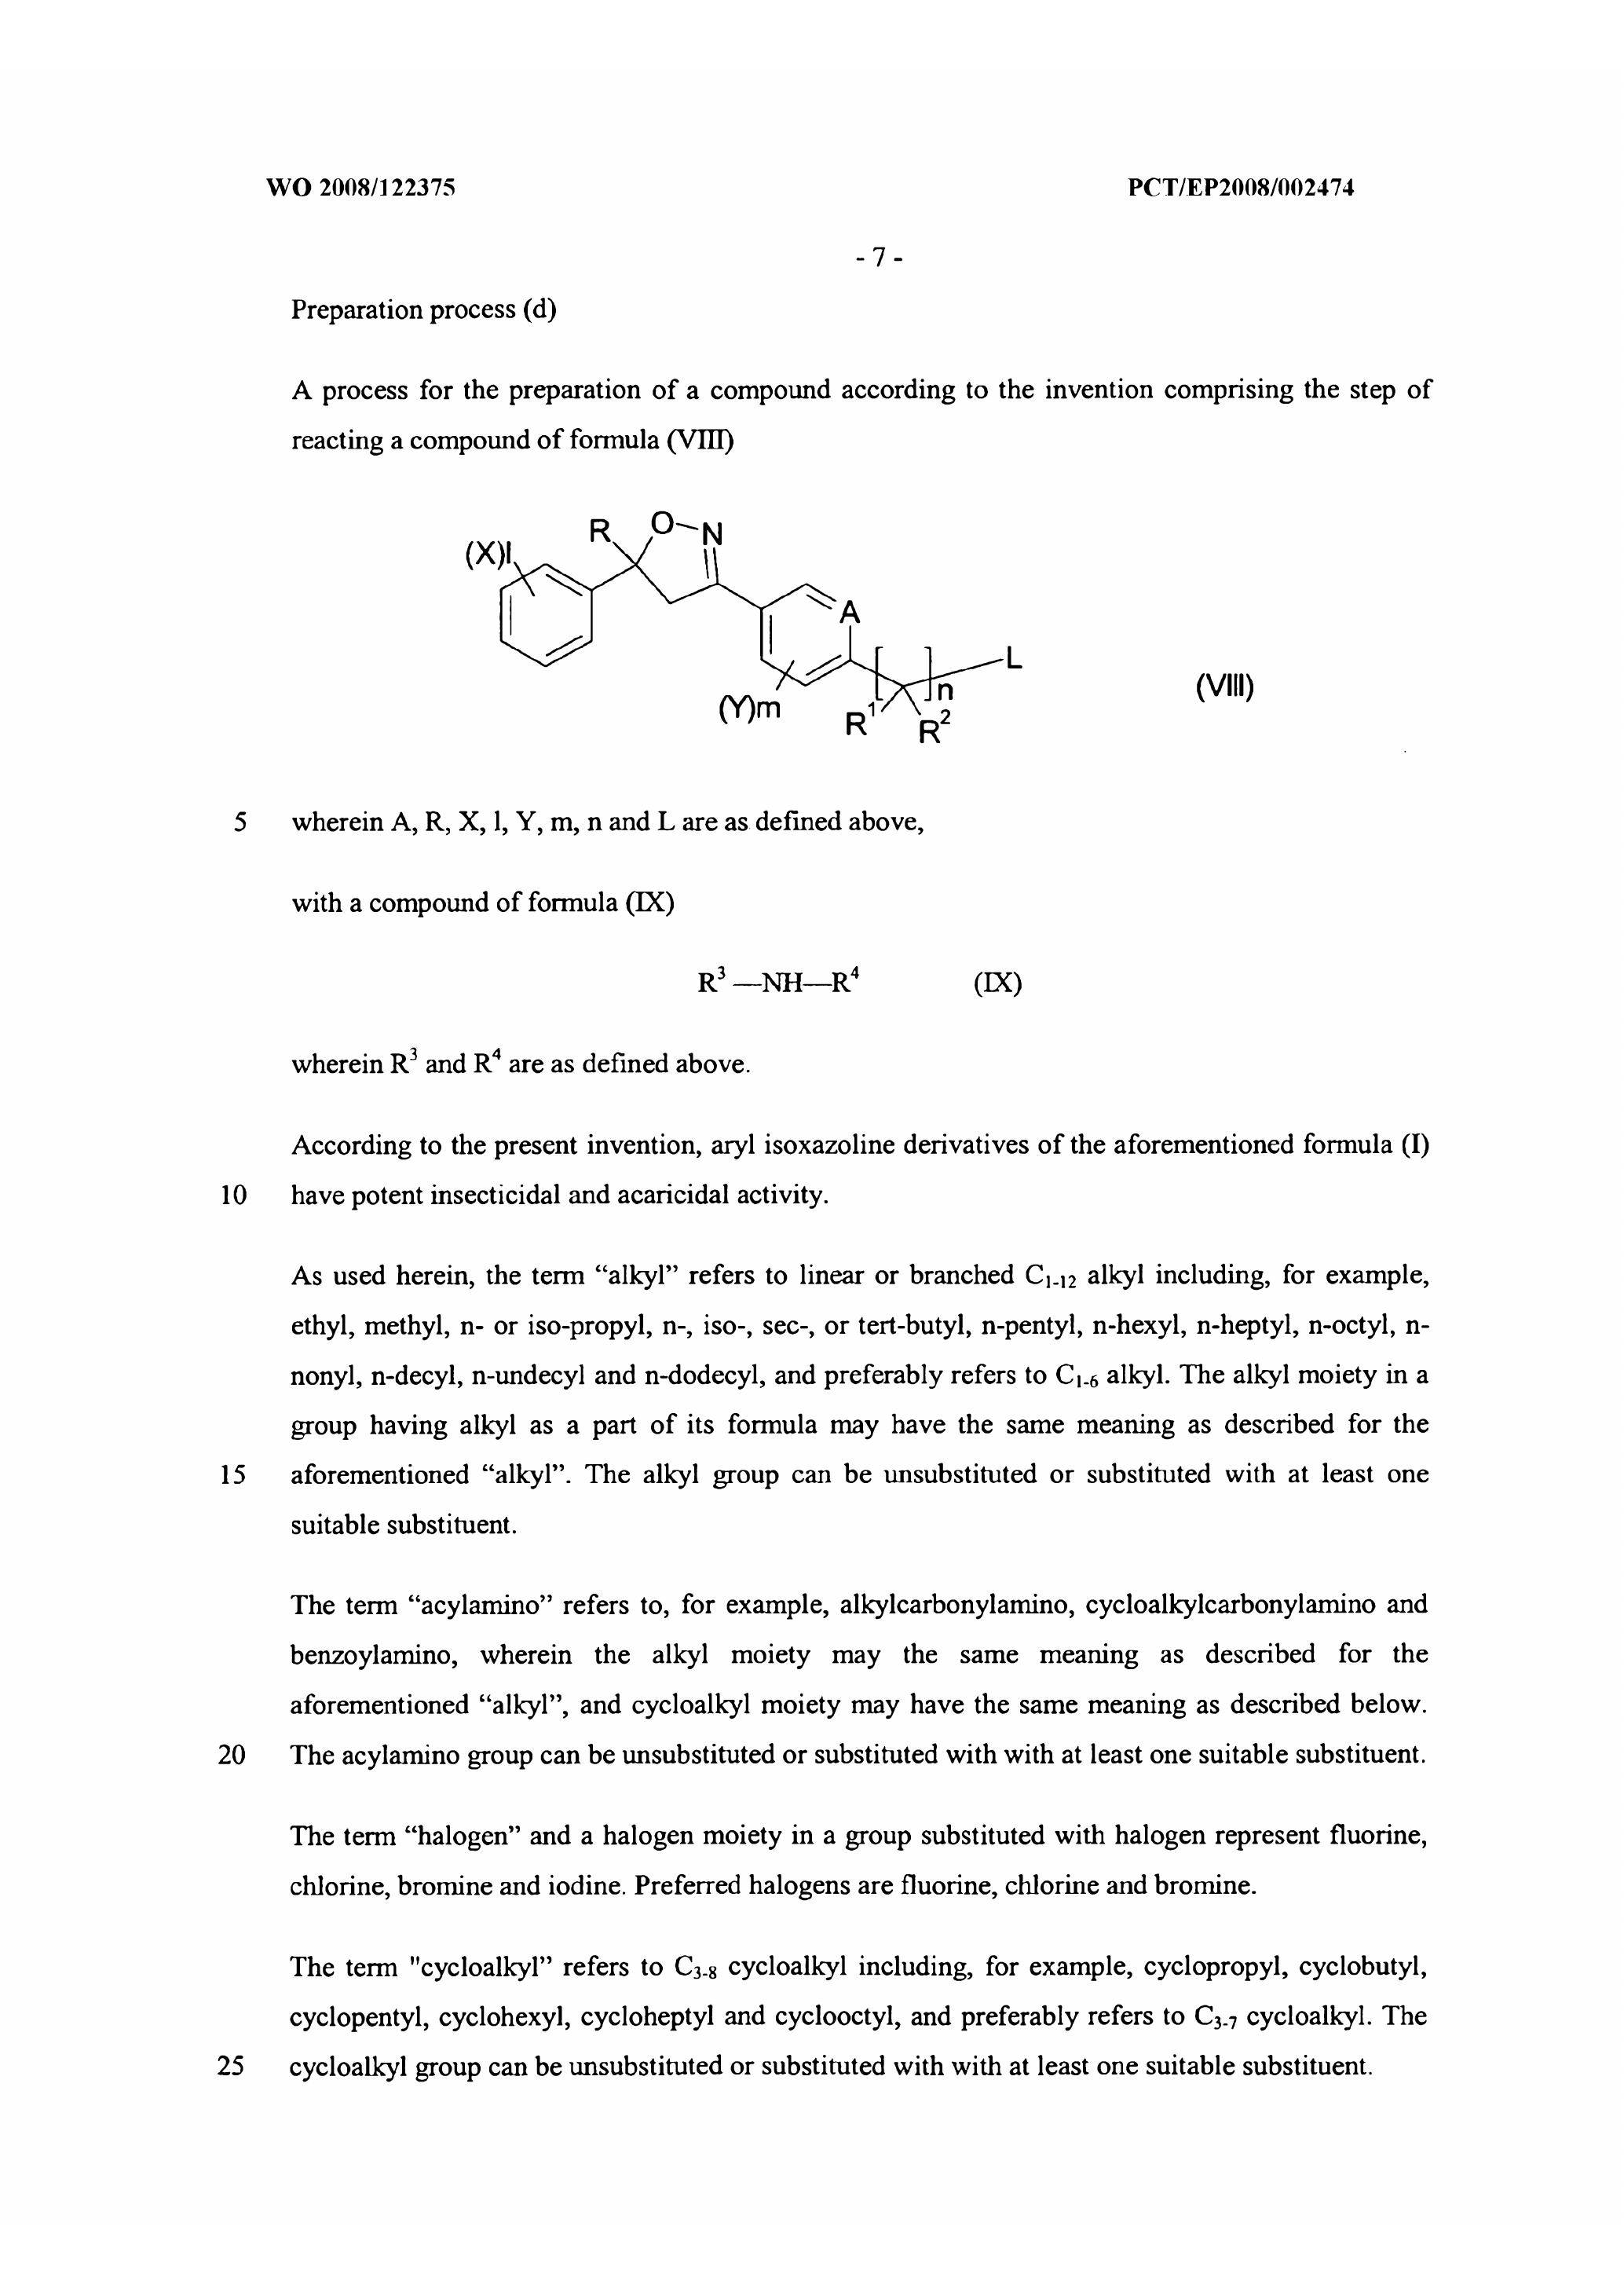reactions: (214, 341, 1475, 1083)
